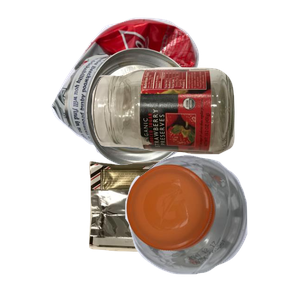glass: (89, 65, 300, 212)
metal: (48, 15, 251, 175)
plastic: (123, 152, 300, 300)
trash: (86, 158, 242, 300)
